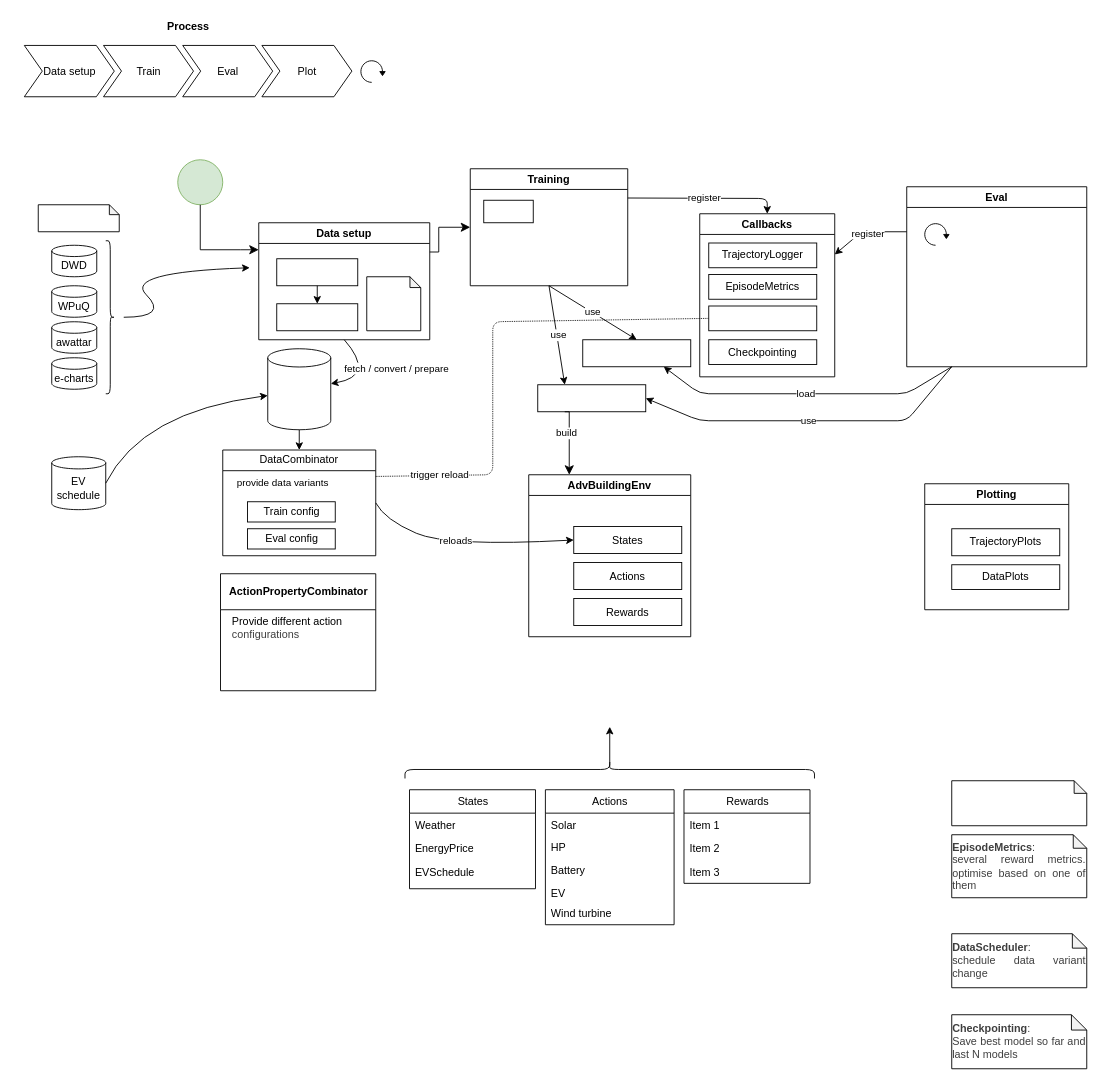
The diagram is 1103 pixels wide and 1085 high, and some of its shapes have lost their labels. Here are the shapes that lost their labels. From the top down, the centre of each, then its label:
At point 200,182: "Start".
At point 78,218: "Data sources".
At point 508,211: "tune".
At point 317,272: "Download".
At point 317,317: "Preprocess".
At point 393,303: "Augment, noise".
At point 762,318: "DataScheduler".
At point 636,353: "training param config".
At point 299,389: "Time series: .csv, .hdf5".
At point 591,398: "EnvConfig".
At point 1019,803: "TrajectoryLogger : log (s, a, r)".
